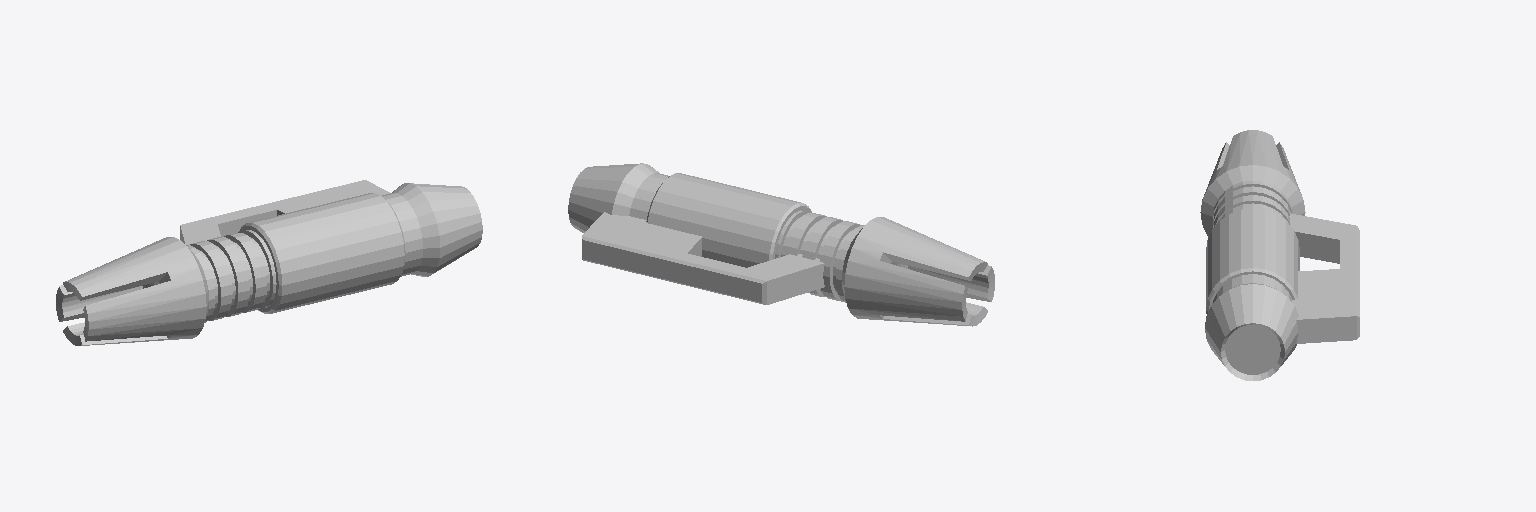
Rendered from Laser001_raw.obj.
3 views of the same model, side by side, from view 1: azimuth 30°, elevation 25°; view 2: azimuth 150°, elevation 25°; view 3: azimuth 270°, elevation 25° (orthographic).
Parts seen in each view (by area): view 1: Body3, Body4; view 2: Body3, Body4; view 3: Body3, Body4.
Boxes of the visible parts, box(x1,y1,x2,y2) form: Body3: box(56, 183, 482, 345); Body4: box(180, 180, 389, 244); Body3: box(568, 163, 994, 326); Body4: box(582, 212, 824, 304); Body3: box(1200, 130, 1305, 380); Body4: box(1289, 213, 1359, 343).
Bounding box in the file's own units: 342 × 78.87 × 119.